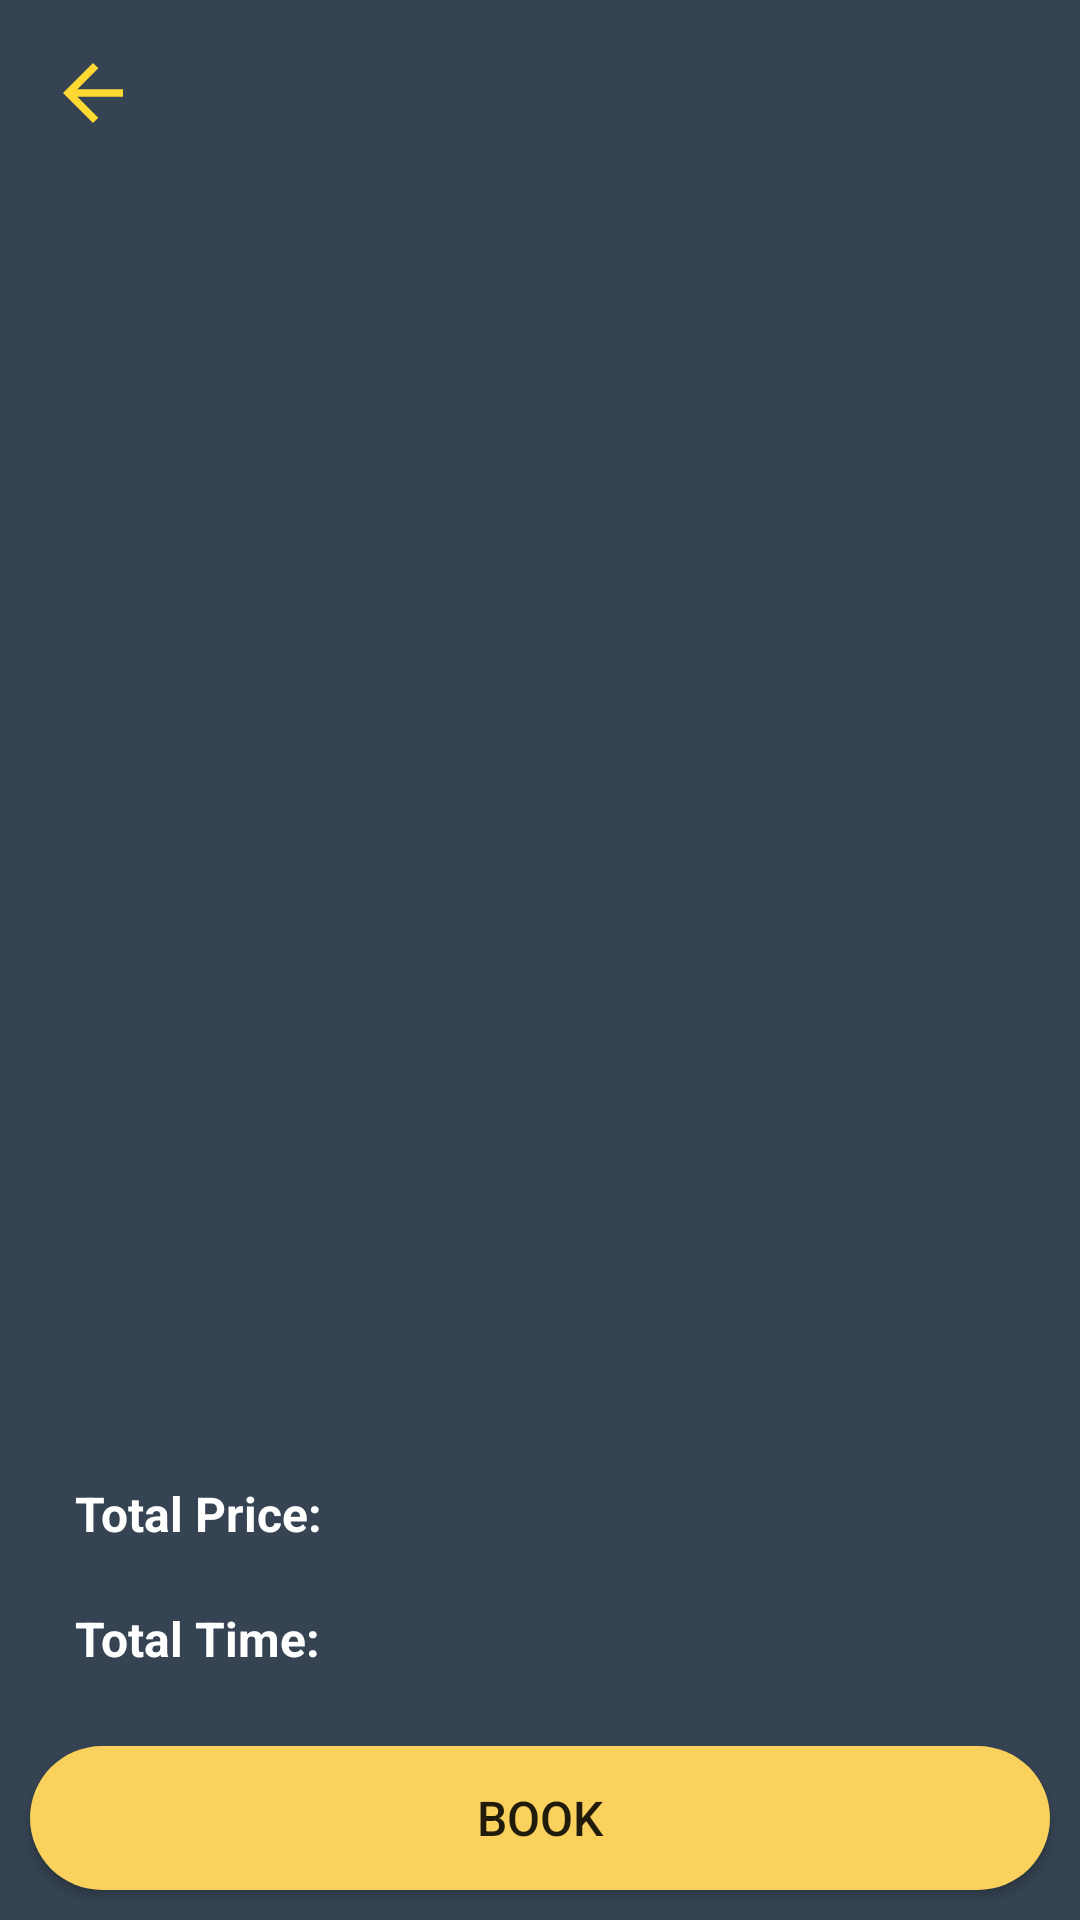

Screen size 1080x1920. Icon name, then its center in pixels as [x,y]:
arrow back: [93,93]
